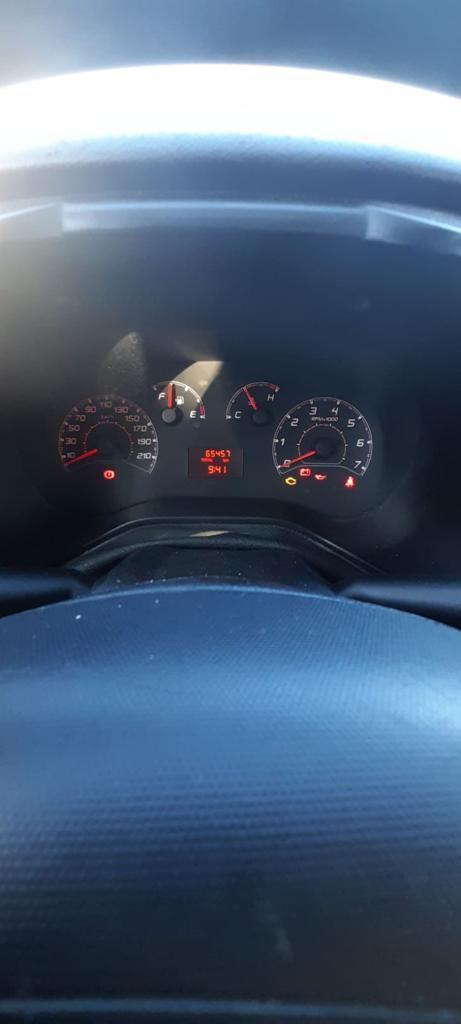1: (223, 465, 226, 473)
4: (215, 465, 221, 473), (215, 450, 220, 456)
5: (210, 450, 215, 457), (220, 450, 225, 457)
6: (205, 449, 210, 457)
7: (225, 449, 230, 456)
9: (207, 465, 213, 473)
X: (213, 467, 215, 472)
odometer: (186, 446, 243, 479)
